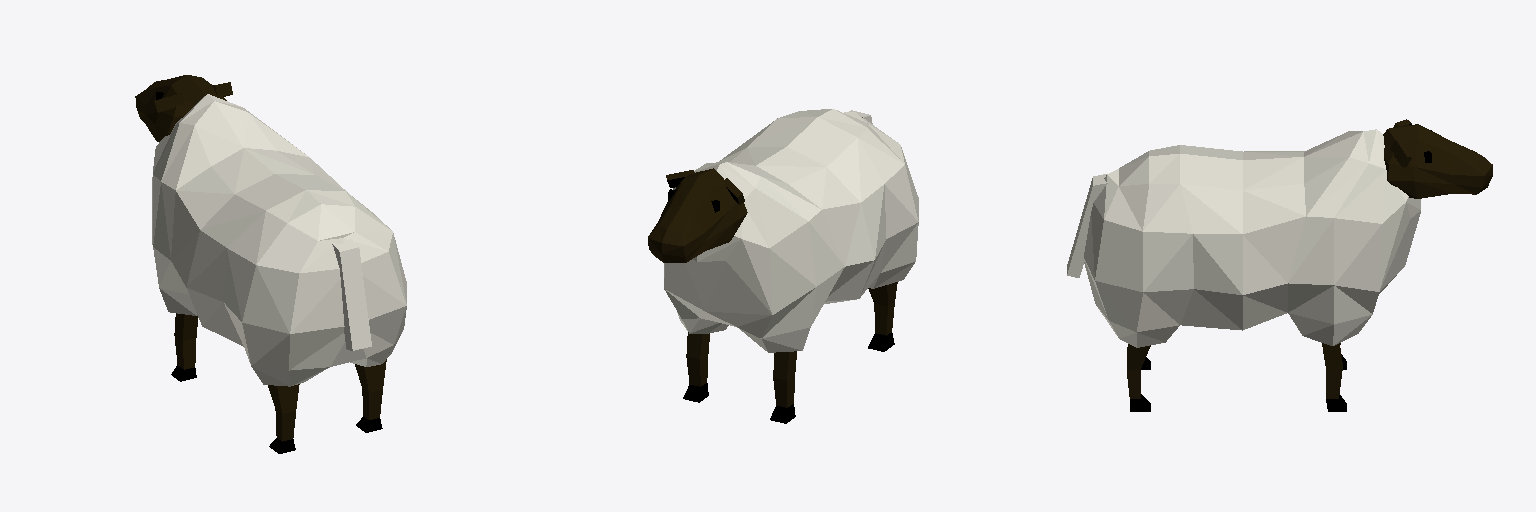
The picture shows the model from 3 angles: view 1: azimuth 30°, elevation 25°; view 2: azimuth 150°, elevation 25°; view 3: azimuth 270°, elevation 25°; orthographic projection.
Parts seen in each view (by area): view 1: sheep1_Mesh1_Model; view 2: sheep1_Mesh1_Model; view 3: sheep1_Mesh1_Model.
Boxes of the visible parts, box(x1,y1,x2,y2) form: sheep1_Mesh1_Model: box(135, 75, 406, 453); sheep1_Mesh1_Model: box(648, 109, 918, 423); sheep1_Mesh1_Model: box(1067, 119, 1492, 411).
Size of the model in its own units: 0.7509 by 1.06 by 1.57.
3 materials, 2 textured.